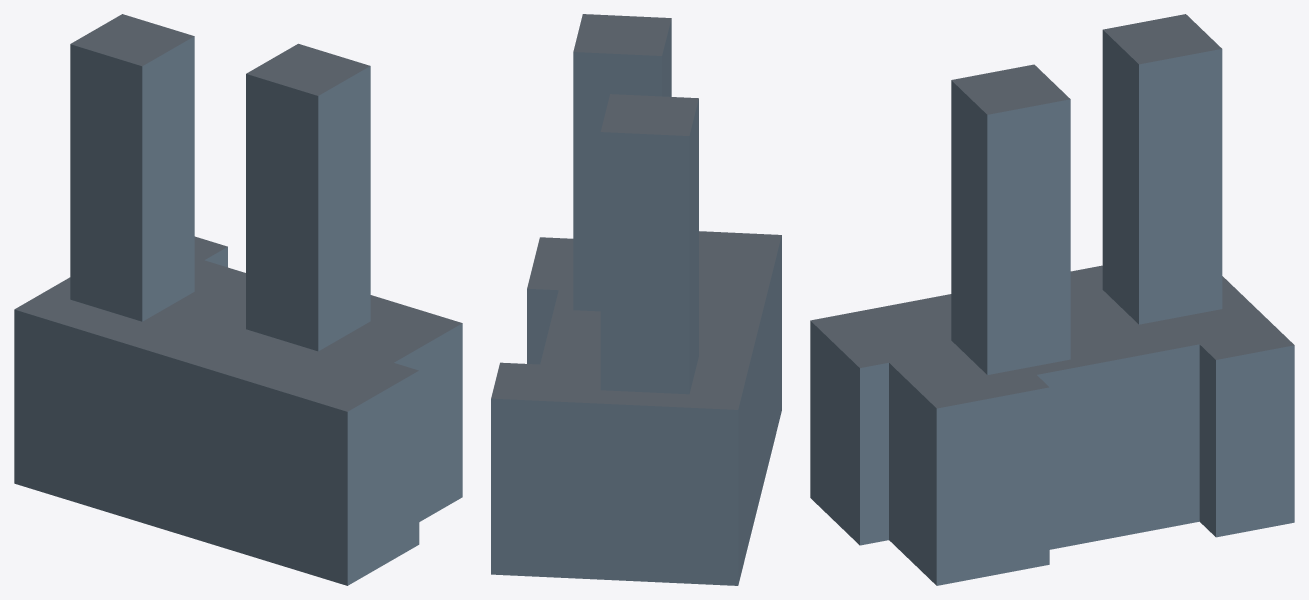
The picture shows the model from 3 angles, left to right: view 1: azimuth 30°, elevation 25°; view 2: azimuth 150°, elevation 25°; view 3: azimuth 270°, elevation 25°; orthographic projection.
Visible parts, largest first — view 1: HP-w369237832; view 2: HP-w369237832; view 3: HP-w369237832.
Boxes of the visible parts, <box> form: HP-w369237832: <box>14,14,462,585</box>; HP-w369237832: <box>491,14,781,585</box>; HP-w369237832: <box>810,14,1294,585</box>.
Bounding box in the file's own units: 58.89 × 75 × 75.25.
